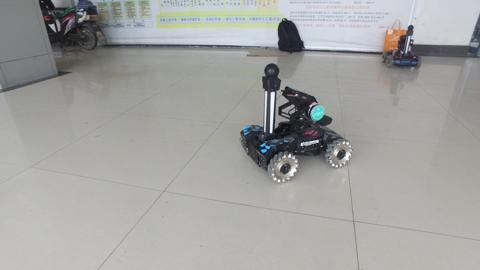bag: (272, 15, 308, 54), (384, 18, 408, 54)
chariot: (238, 62, 353, 183), (378, 23, 422, 70)
